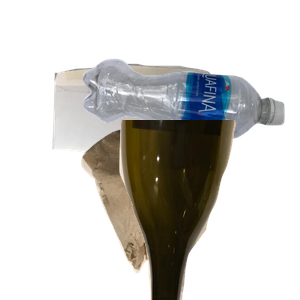glass: (117, 120, 300, 300)
paper: (50, 61, 257, 211)
plastic: (80, 56, 300, 187)
trash: (79, 123, 281, 300)
